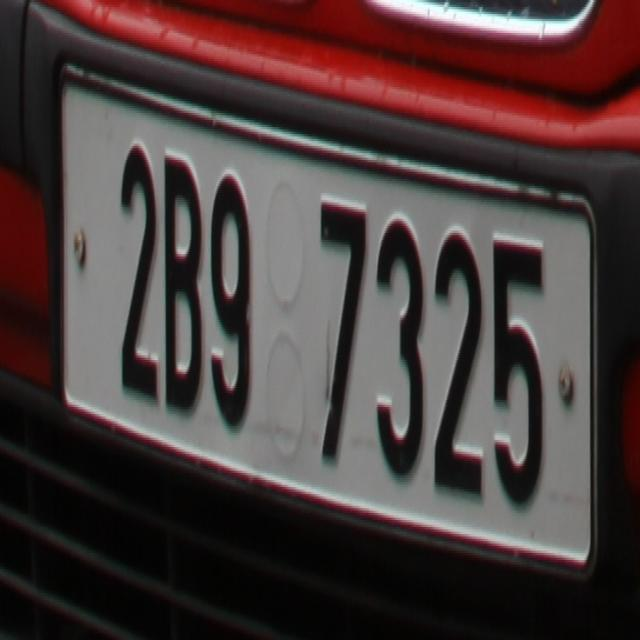2: (431, 219, 485, 487), (116, 136, 154, 400)
3: (376, 207, 427, 499)
5: (494, 228, 545, 499)
7: (315, 186, 366, 470)
9: (206, 165, 254, 433)
B: (163, 146, 205, 423)
